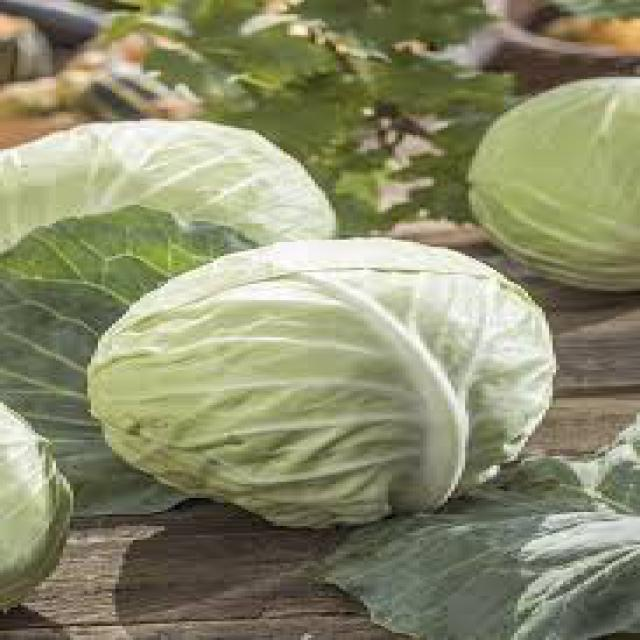Cabbage: (87, 234, 557, 529), (1, 115, 338, 431), (465, 73, 640, 292)
